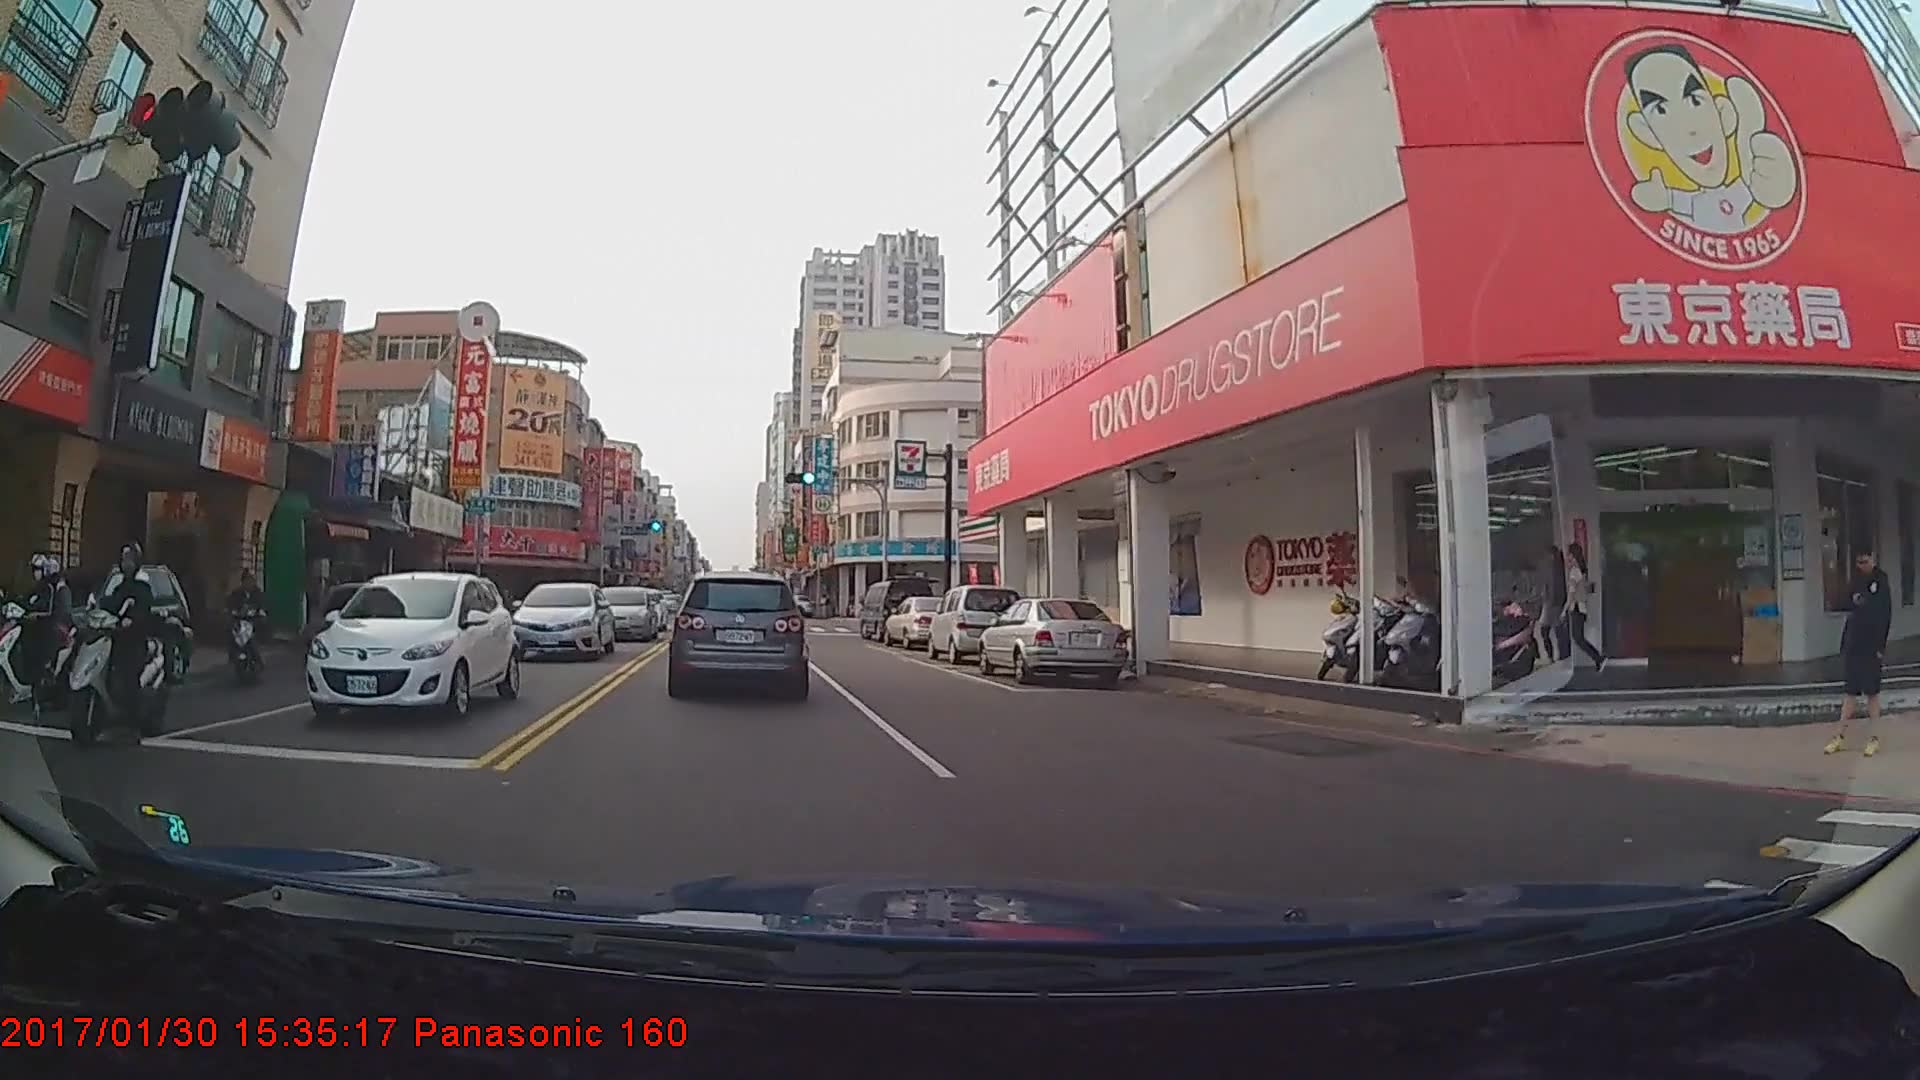pedestrian: (1823, 537, 1897, 755), (1555, 544, 1600, 678), (1537, 543, 1573, 665)
rider: (66, 545, 179, 748), (225, 565, 276, 688)
vehicle: (296, 570, 513, 725), (0, 561, 193, 701), (670, 572, 804, 699), (974, 595, 1127, 690), (507, 582, 614, 662), (925, 586, 1022, 665), (860, 581, 929, 642), (882, 598, 959, 648), (588, 587, 655, 643)
